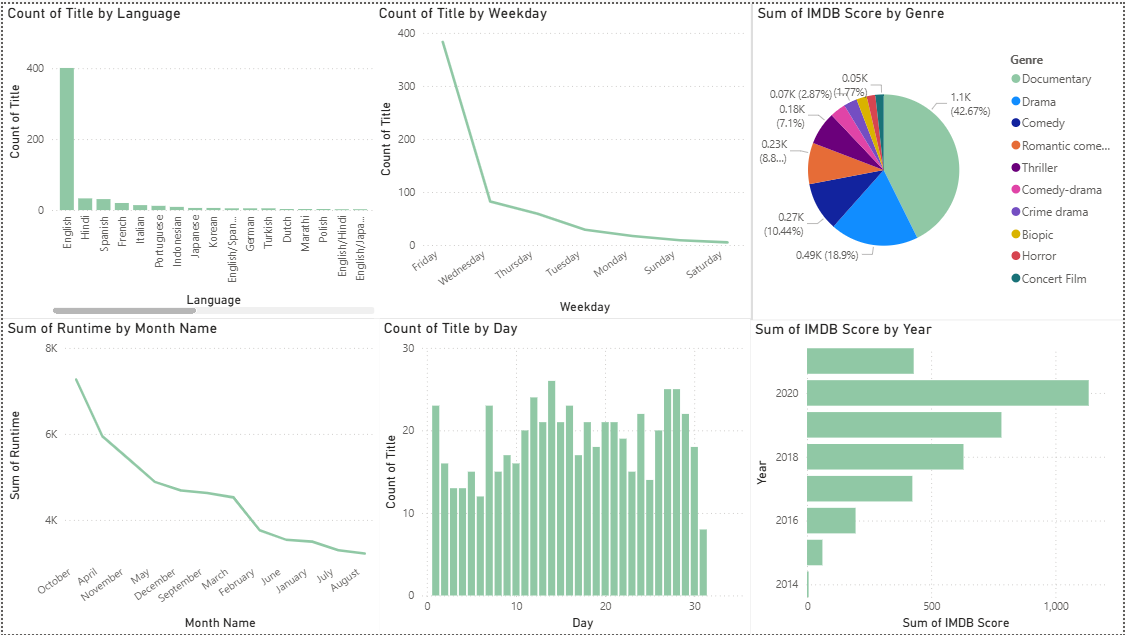

The page's visual inventory and layout, read from the dashboard file:
{"tool":"powerbi","page":{"name":"Page 1","canvas":[1280,720],"ordinal":0},"visuals":[{"type":"columnChart","fields":{"Category":["NetflixOriginals.Language"],"Y":["CountNonNull(NetflixOriginals.Title)"]},"box":[0,0,430.4,359.5],"z":0},{"type":"lineChart","fields":{"Y":["Sum(NetflixOriginals.Runtime)"],"Category":["NetflixOriginals.Month Name"]},"box":[0,359.5,430.4,360.7],"z":1000},{"type":"lineChart","fields":{"Category":["NetflixOriginals.Weekday"],"Y":["CountNonNull(NetflixOriginals.Title)"]},"box":[424.3,0,430.4,359.5],"z":2000},{"type":"barChart","fields":{"Y":["Sum(NetflixOriginals.IMDB Score)"],"Category":["NetflixOriginals.Year"]},"box":[854.8,360.7,425.5,359.5],"z":3000},{"type":"pieChart","fields":{"Category":["NetflixOriginals.Genre"],"Y":["Sum(NetflixOriginals.IMDB Score)"]},"box":[857.2,0,423.1,360.7],"z":4000},{"type":"lineStackedColumnComboChart","fields":{"Category":["NetflixOriginals.Day"],"Y":["CountNonNull(NetflixOriginals.Title)"]},"box":[430,360,424,360],"z":5000}]}

Visuals, with their boxes in screenshot pixels (x1, y1, x2, y2), scaled from the page's 1280x720 canvas onto the 1125x635 screenshot:
columnChart - NetflixOriginals.Language x CountNonNull(NetflixOriginals.Title): box(0, 0, 378, 317)
lineChart - Sum(NetflixOriginals.Runtime) x NetflixOriginals.Month Name: box(0, 317, 378, 634)
lineChart - NetflixOriginals.Weekday x CountNonNull(NetflixOriginals.Title): box(373, 0, 751, 317)
barChart - Sum(NetflixOriginals.IMDB Score) x NetflixOriginals.Year: box(751, 318, 1124, 634)
pieChart - NetflixOriginals.Genre x Sum(NetflixOriginals.IMDB Score): box(753, 0, 1124, 318)
lineStackedColumnComboChart - NetflixOriginals.Day x CountNonNull(NetflixOriginals.Title): box(378, 318, 751, 634)
